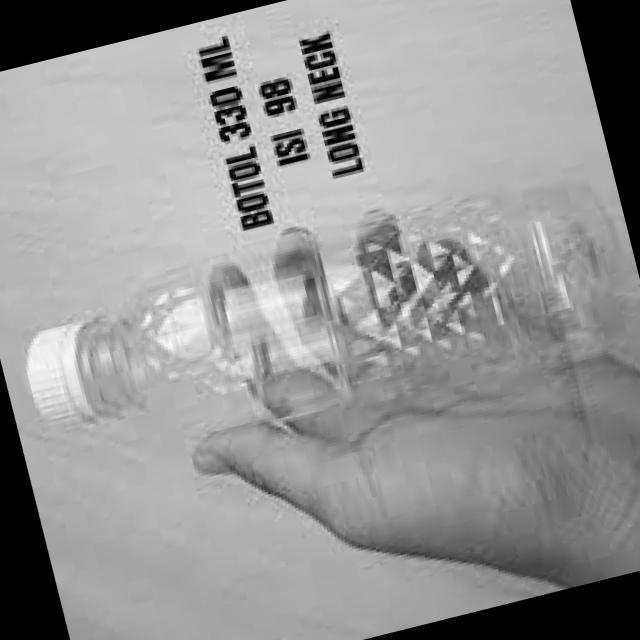good: (0, 129, 632, 489)
